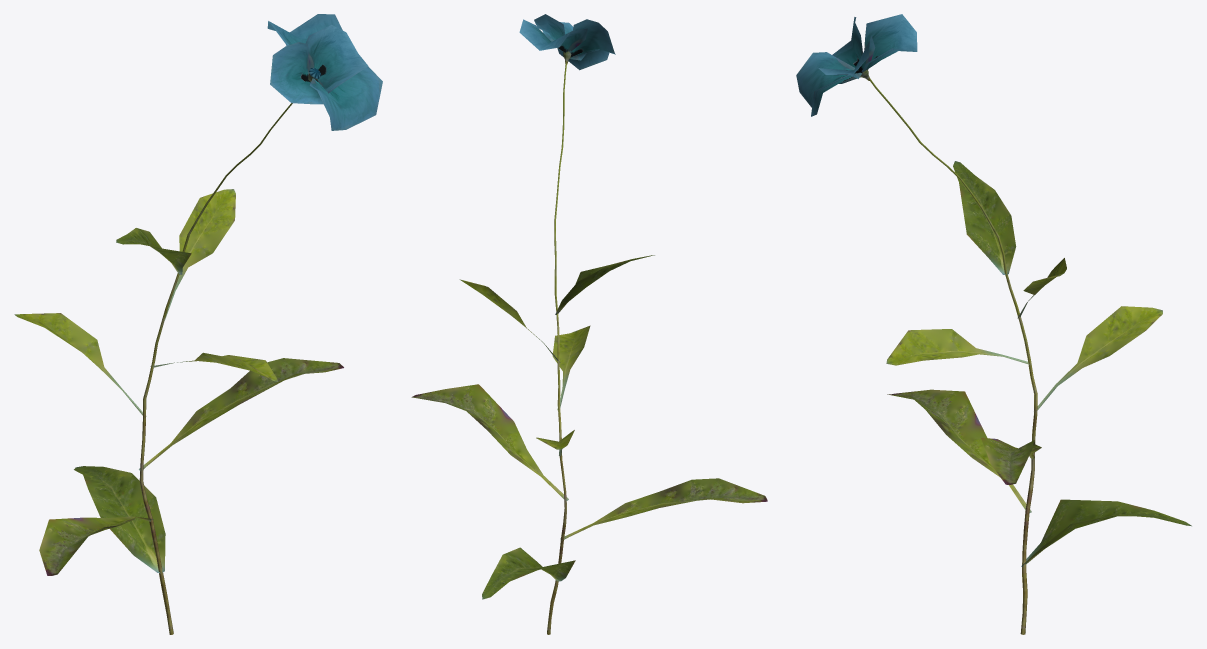
Rendered from Poppy_OG_normal_cyan.glb.
3 views of the same model, side by side, from view 1: azimuth 30°, elevation 25°; view 2: azimuth 150°, elevation 25°; view 3: azimuth 270°, elevation 25° (orthographic). The views are drawn at different scales.
Visible parts, largest first — view 1: xtall; view 2: xtall; view 3: xtall.
Boxes of the visible parts, x1,y1,x2,y2 form: xtall: [14, 14, 382, 634]; xtall: [411, 14, 767, 634]; xtall: [796, 14, 1191, 634].
Size of the model in its own units: 1.75 by 3.06 by 1.73.
1 material, 1 textured.
